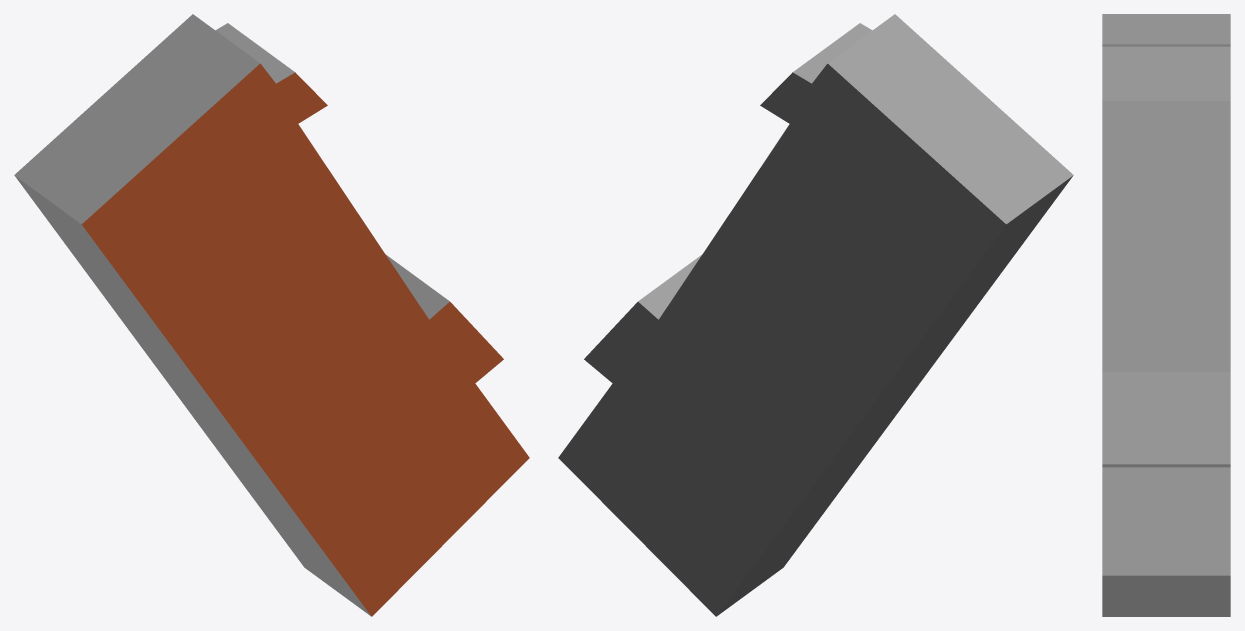
The model's file is construction_3807_assumed_A_Casa_h6m.obj.
3 views of the same model, side by side, from view 1: azimuth 30°, elevation 25°; view 2: azimuth 150°, elevation 25°; view 3: azimuth 270°, elevation 25° (orthographic). The views are drawn at different scales.
Visible parts, largest first — view 1: construction_3807_assumed_A_Casa; view 2: construction_3807_assumed_A_Casa; view 3: construction_3807_assumed_A_Casa.
Part boxes in pixels (x1=…): construction_3807_assumed_A_Casa: x1=14, y1=14, x2=529, y2=616; construction_3807_assumed_A_Casa: x1=558, y1=14, x2=1073, y2=616; construction_3807_assumed_A_Casa: x1=1102, y1=14, x2=1230, y2=616.
Size of the model in its own units: 23.01 by 28.5 by 6.
